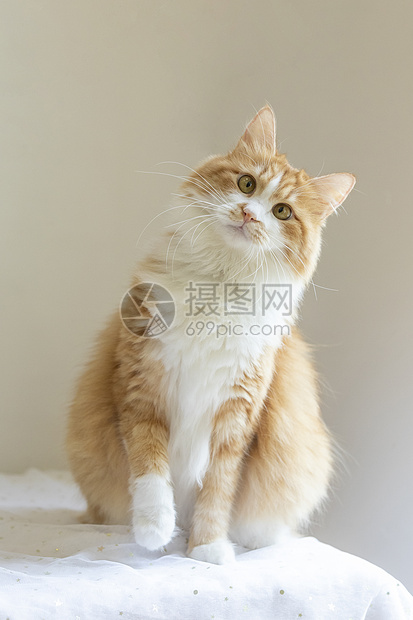橘猫: (67, 284, 332, 546), (147, 106, 355, 285)
